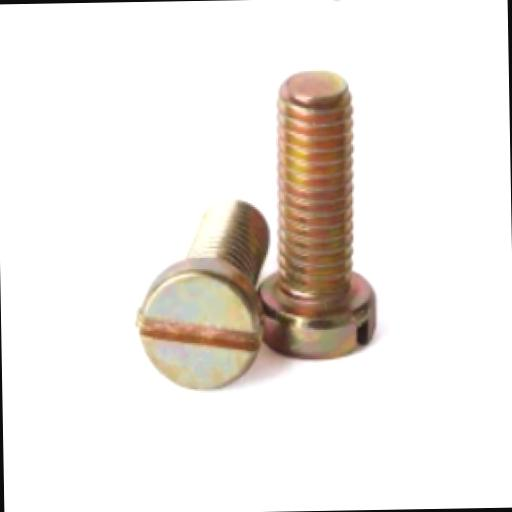Slotted: (135, 258, 264, 392)
